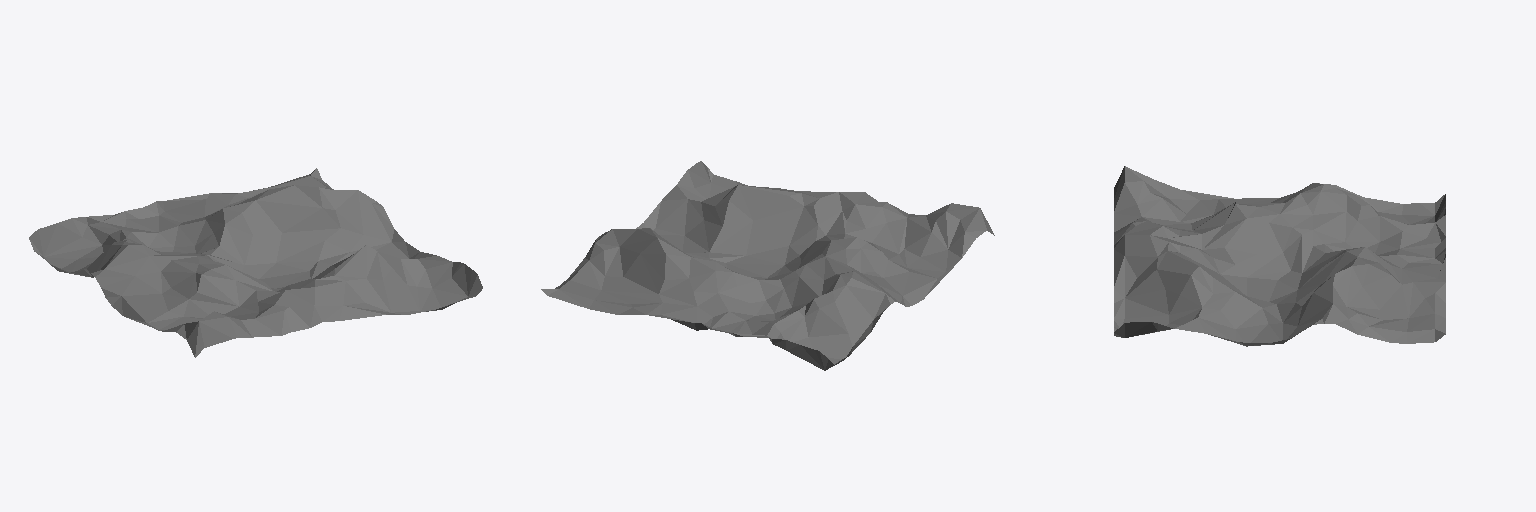
File: terrain.obj
3 views of the same model, side by side, from view 1: azimuth 30°, elevation 25°; view 2: azimuth 150°, elevation 25°; view 3: azimuth 270°, elevation 25° (orthographic).
Parts seen in each view (by area): view 1: pPlane3_displacement1; view 2: pPlane3_displacement1; view 3: pPlane3_displacement1.
Boxes of the visible parts, box(x1,y1,x2,y2) form: pPlane3_displacement1: box(29, 168, 482, 357); pPlane3_displacement1: box(541, 161, 994, 370); pPlane3_displacement1: box(1114, 166, 1445, 346).
Size of the model in its own units: 28.37 by 4.96 by 28.37.